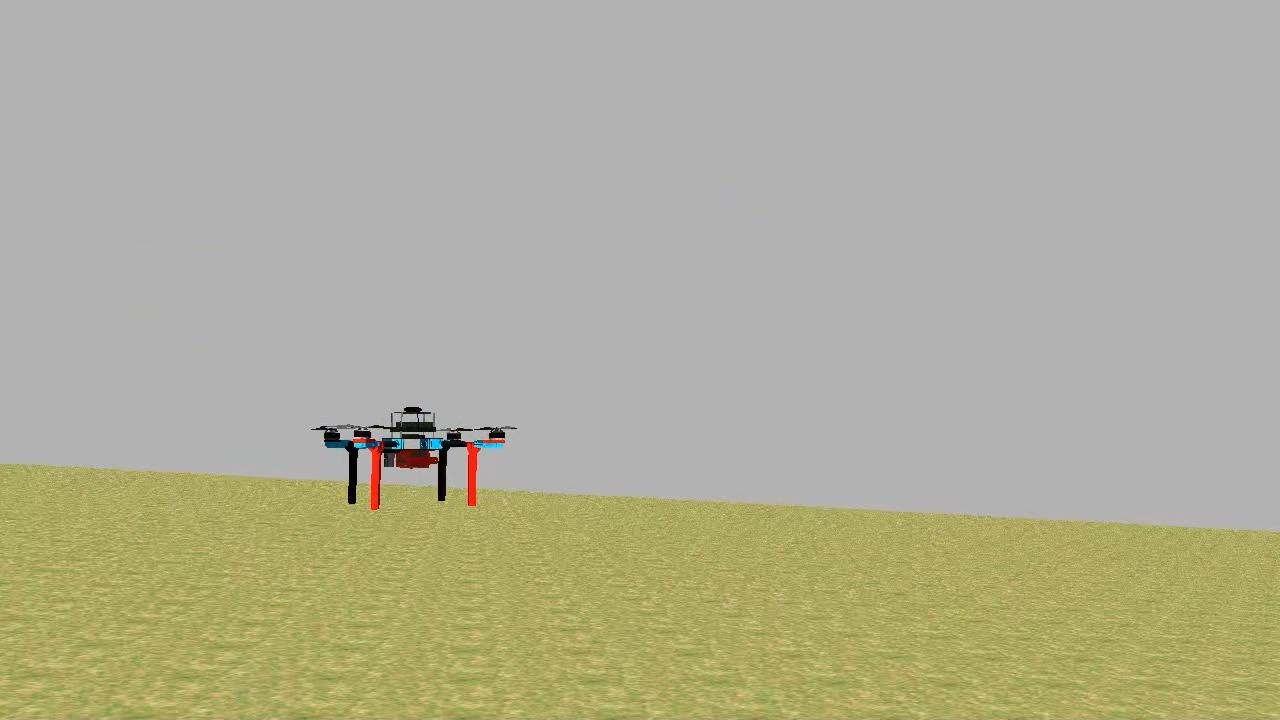UAV: (319, 397, 517, 516)
